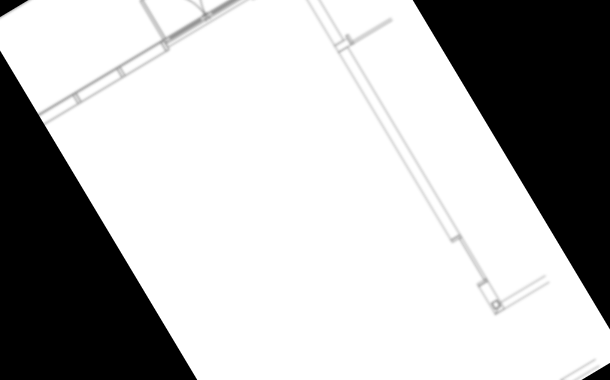double door: (135, 0, 253, 49)
window: (445, 228, 495, 290)
